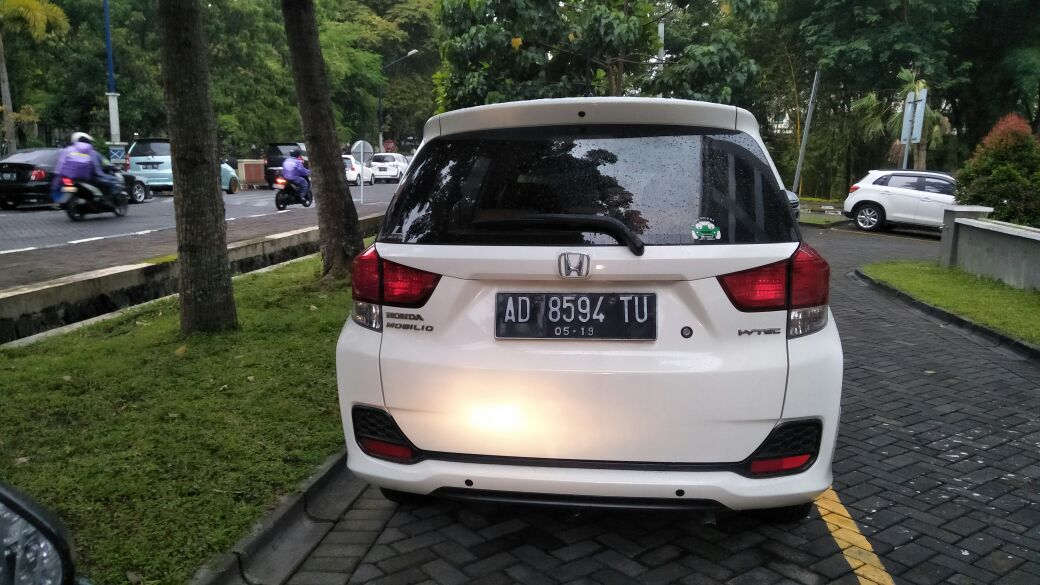plate: (494, 290, 659, 344)
